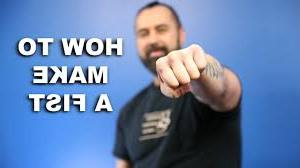Oncoming-Punch: (157, 42, 212, 99)
